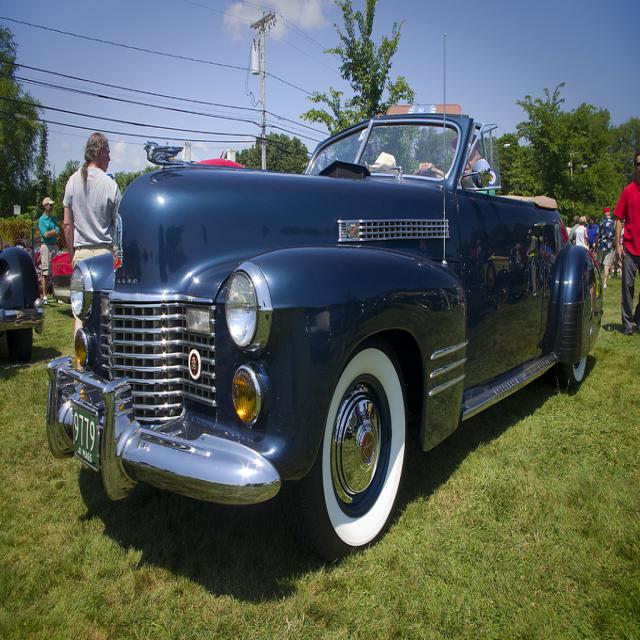car: (43, 34, 606, 550)
